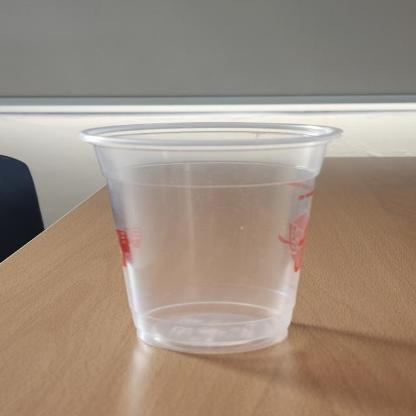Plastic Cup: (77, 120, 346, 354)
